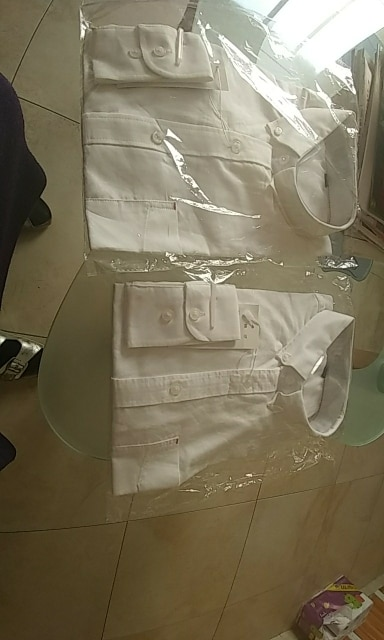shirts: (80, 33, 347, 275), (108, 285, 354, 493)
